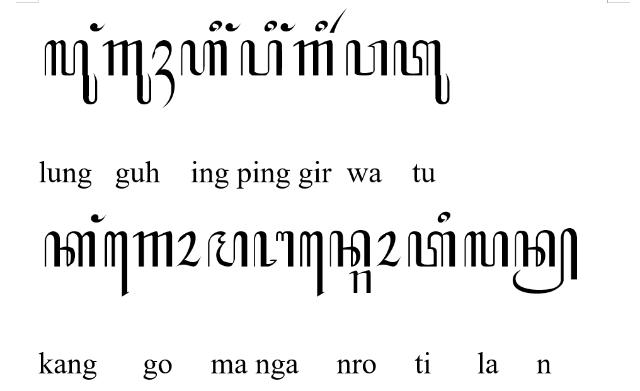-n: (512, 227, 578, 295)
_h1: (152, 40, 174, 108)
_r1: (329, 7, 347, 33)
e1: (104, 230, 130, 298), (299, 230, 325, 298)
g: (132, 230, 174, 270), (293, 39, 333, 77)
gu: (102, 40, 152, 104)
h: (180, 39, 228, 76)
i: (209, 20, 223, 33), (264, 20, 278, 32), (315, 20, 329, 32), (437, 212, 451, 224)
k: (44, 231, 96, 269)
l: (464, 231, 508, 269)
lu: (44, 40, 98, 104)
m: (208, 231, 248, 269)
n: (330, 230, 370, 268)
ng: (90, 22, 106, 32), (225, 22, 241, 32), (280, 23, 296, 33), (91, 213, 107, 223)
nga: (253, 230, 294, 268)
o: (176, 230, 202, 268), (376, 231, 400, 269)
p: (240, 39, 284, 76)
r: (349, 269, 373, 294)
t: (408, 232, 457, 268)
tu: (394, 39, 451, 105)
w: (346, 40, 388, 76)
